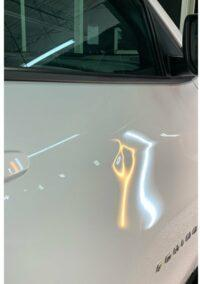dent: (96, 124, 174, 202)
